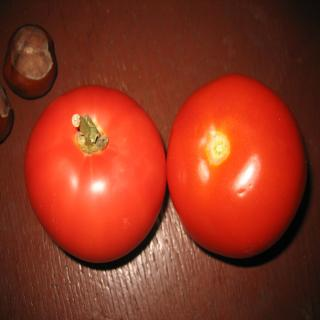tomato: (164, 71, 307, 262), (24, 82, 167, 263)
